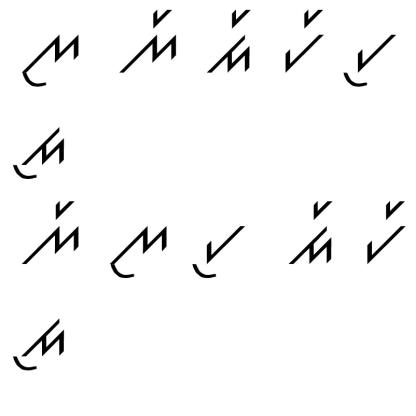dar: (283, 191, 342, 269), (201, 8, 261, 80)
daw: (8, 308, 68, 380), (8, 122, 72, 183)
nar: (116, 6, 184, 74), (18, 200, 80, 268)
naw: (103, 214, 173, 280), (17, 30, 86, 93)
par: (274, 7, 330, 78), (360, 192, 411, 264)
paw: (182, 214, 249, 287), (342, 22, 404, 92)
